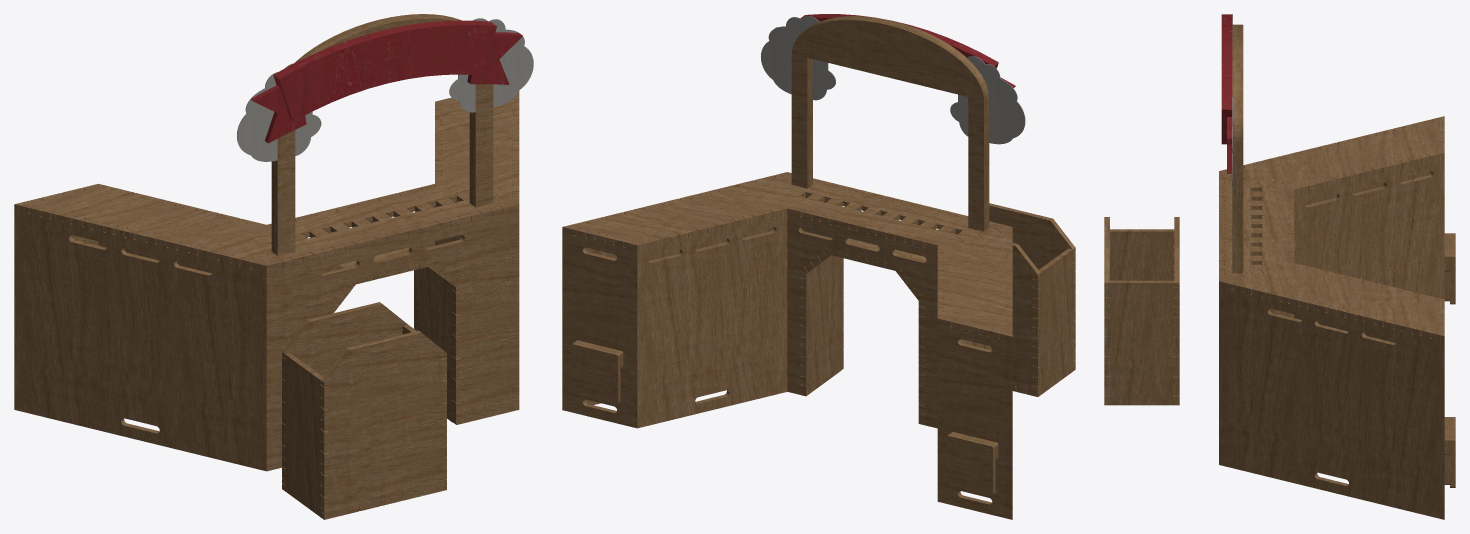
The model's file is theater.glb.
The picture shows the model from 3 angles, left to right: view 1: azimuth 30°, elevation 25°; view 2: azimuth 150°, elevation 25°; view 3: azimuth 270°, elevation 25°; orthographic projection. The views are drawn at different scales.
Parts seen in each view (by area): view 1: theaer; view 2: theaer; view 3: theaer.
Part boxes in pixels (left/top/right/bottom): theaer: left=14, top=14, right=533, bottom=519; theaer: left=562, top=14, right=1075, bottom=519; theaer: left=1104, top=14, right=1455, bottom=519.
Bounding box in the file's own units: 1.83 × 1.42 × 1.23.
Materials: 3 (3 with a texture image).
